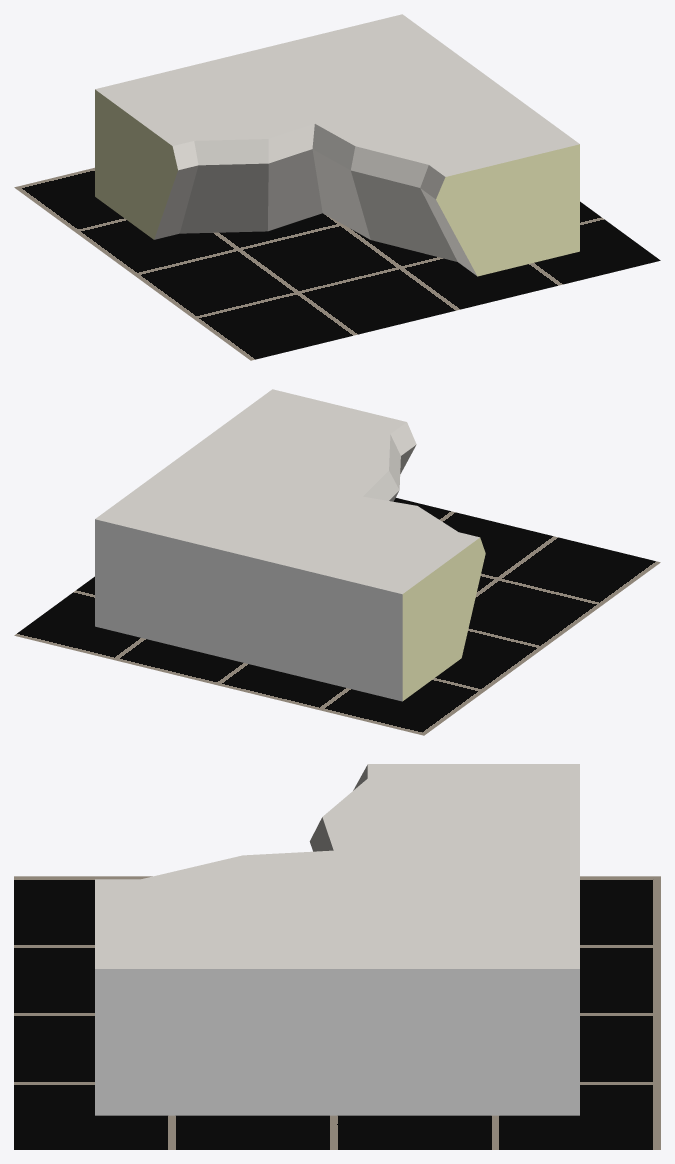
Rendered from Cracked_Curve_Inner_3x3_1_Top.glb.
The picture shows the model from 3 angles, top to bottom: view 1: azimuth 30°, elevation 25°; view 2: azimuth 150°, elevation 25°; view 3: azimuth 270°, elevation 25°; orthographic projection. The views are drawn at different scales.
Visible parts, largest first — view 1: Cracked_Curve_Inner_3x3_1_Top, Floor; view 2: Cracked_Curve_Inner_3x3_1_Top, Floor; view 3: Cracked_Curve_Inner_3x3_1_Top, Floor.
Boxes of the visible parts, left/top/right/bottom form: Cracked_Curve_Inner_3x3_1_Top: left=95, top=14, right=579, bottom=276; Floor: left=14, top=167, right=660, bottom=360; Cracked_Curve_Inner_3x3_1_Top: left=95, top=389, right=485, bottom=701; Floor: left=14, top=498, right=660, bottom=735; Cracked_Curve_Inner_3x3_1_Top: left=95, top=764, right=579, bottom=1115; Floor: left=14, top=876, right=660, bottom=1149.
Size of the model in its own units: 400 by 100 by 400.
4 materials, 1 textured.
